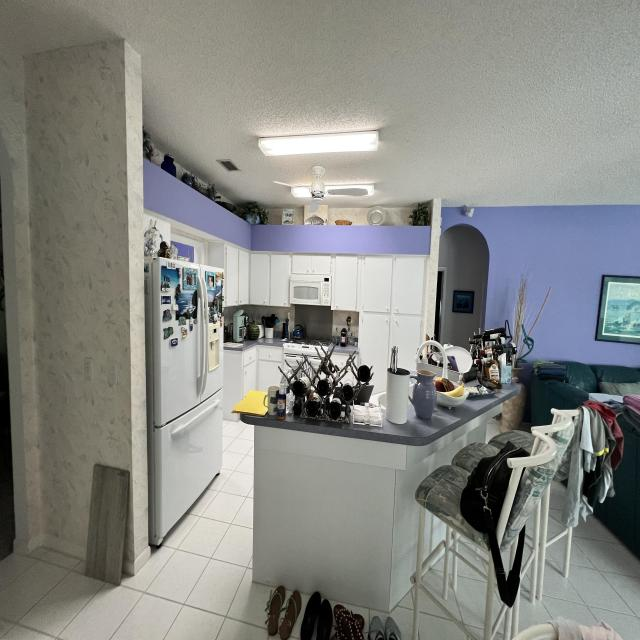Appliance_Fridge: (144, 256, 225, 548)
Appliance_Microwave: (291, 274, 331, 306)
Appliance_Oven: (279, 337, 331, 378)
Appliance_Sink: (417, 340, 449, 379)
Cabinet_Flat: (223, 242, 425, 394), (240, 345, 282, 390)
Countertop_Granite: (240, 383, 518, 446), (223, 338, 284, 351)
